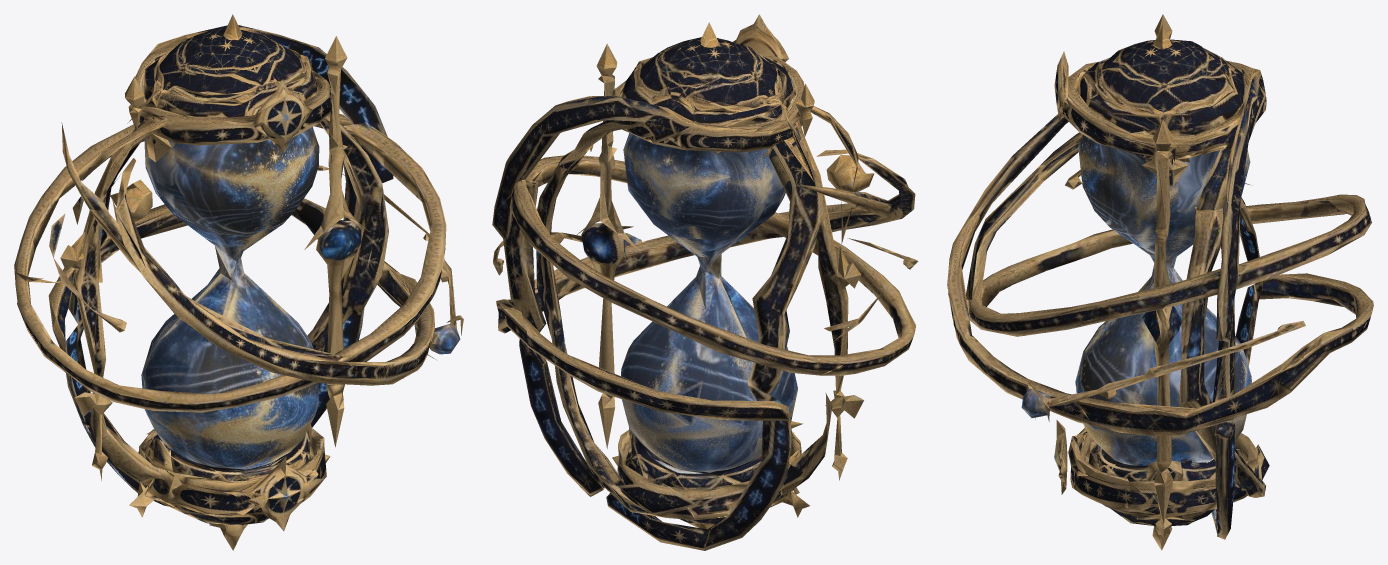
Rendered from hourglass_hollow_sand.glb.
The picture shows the model from 3 angles, left to right: view 1: azimuth 30°, elevation 25°; view 2: azimuth 150°, elevation 25°; view 3: azimuth 270°, elevation 25°; orthographic projection.
Size of the model in its own units: 1.49 by 2 by 1.47.
1 material, 1 textured.
